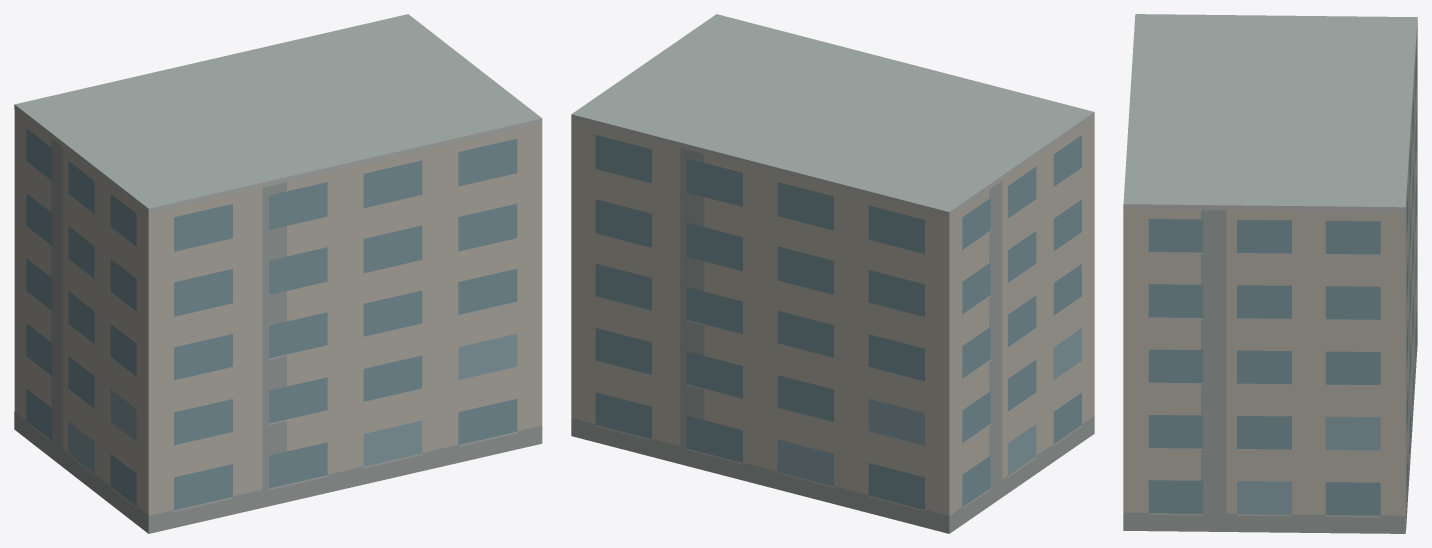
File: survey-upis-32760136.glb
3 views of the same model, side by side, from view 1: azimuth 30°, elevation 25°; view 2: azimuth 150°, elevation 25°; view 3: azimuth 270°, elevation 25° (orthographic).
Visible parts, largest first — view 1: survey-upis-32760136.tmp; view 2: survey-upis-32760136.tmp; view 3: survey-upis-32760136.tmp.
Part boxes in pixels (<box>): survey-upis-32760136.tmp: <box>14,14,542,533</box>; survey-upis-32760136.tmp: <box>571,14,1094,533</box>; survey-upis-32760136.tmp: <box>1123,14,1417,533</box>.
Size of the model in its own units: 19.36 by 15.25 by 12.45.
